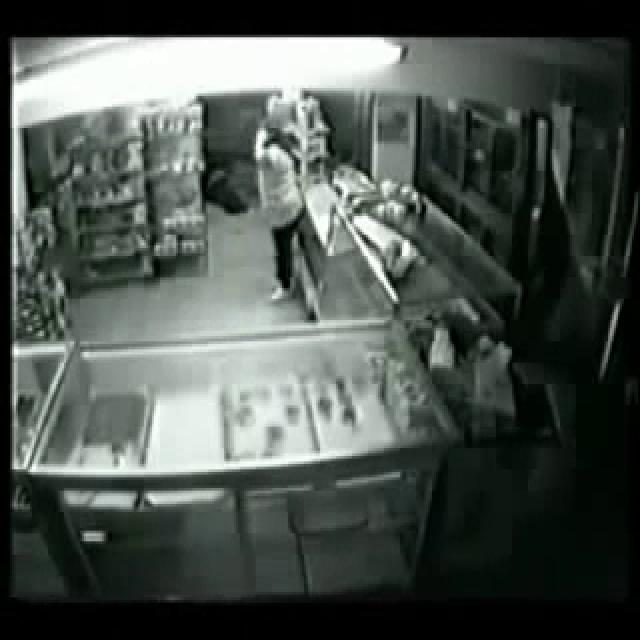shooting: (177, 92, 404, 459)
